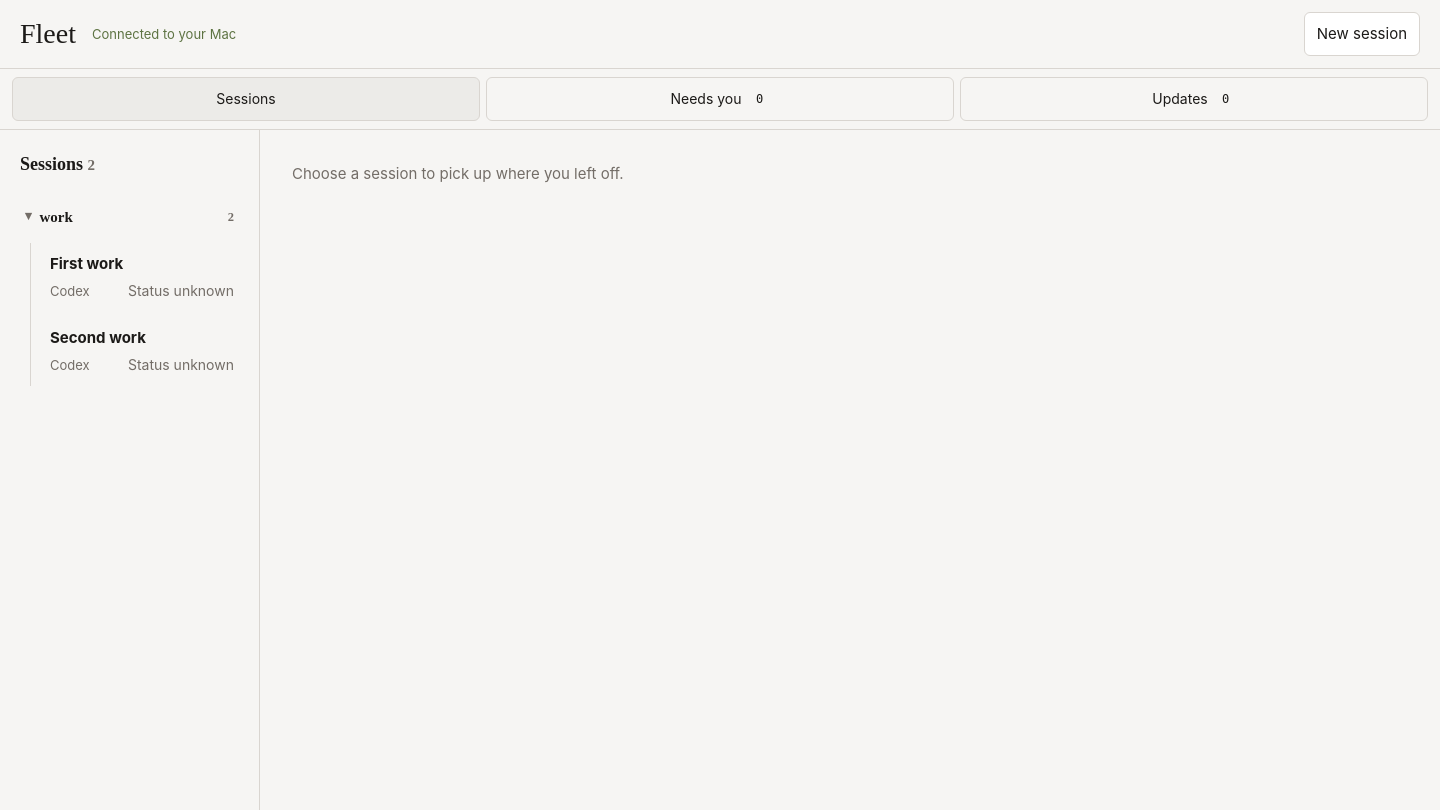
Test case: shows mobile operation refusals without creating a website link
This screenshot has width=1440, height=810.
Click the button "First work Codex Status unknown" at (142, 277), box 37,243 -> 247,311
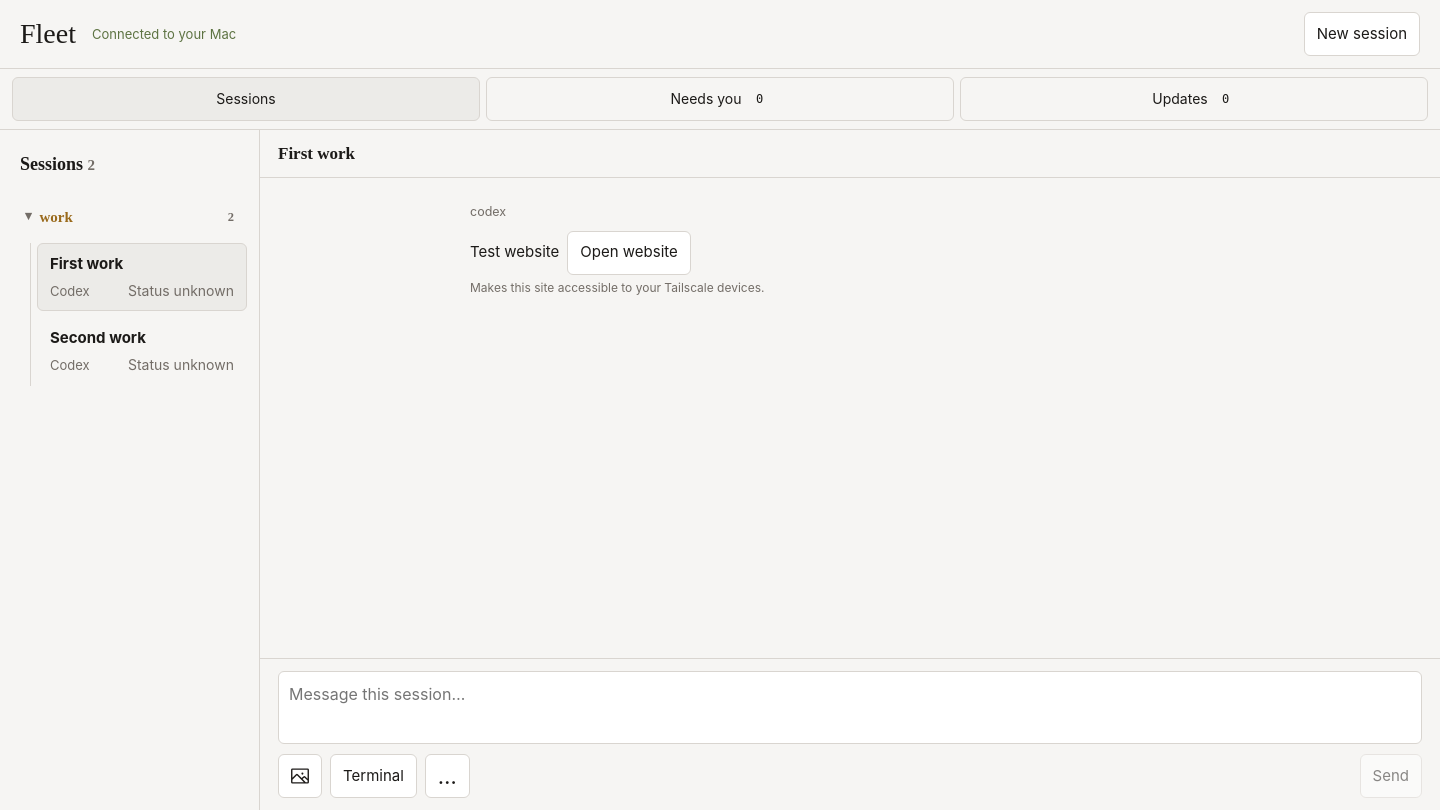
Click the button "Open website" at (629, 253), box 567,231 -> 691,275
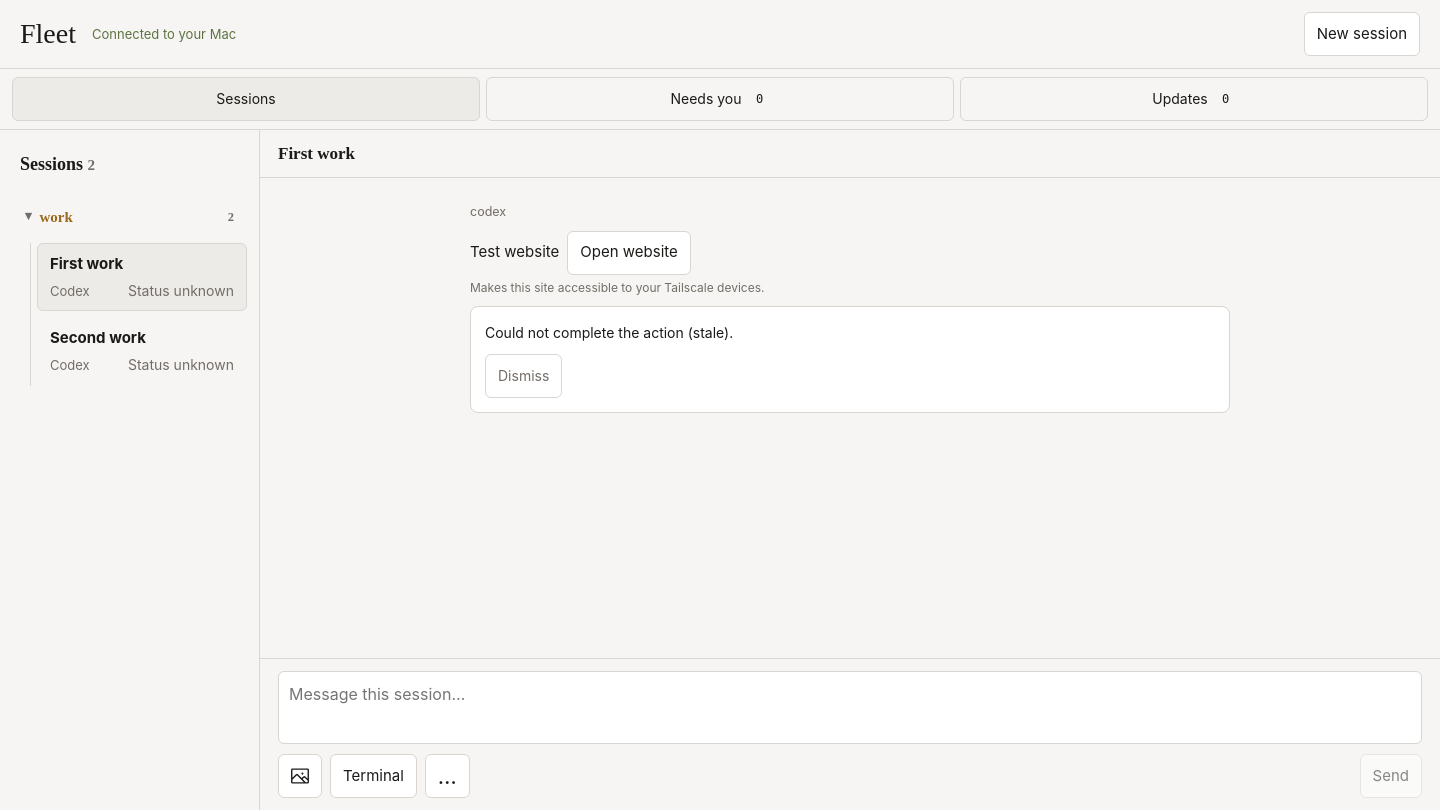
Now the message "Could not complete the action (stale)." is shown, box 485,321 -> 733,344
